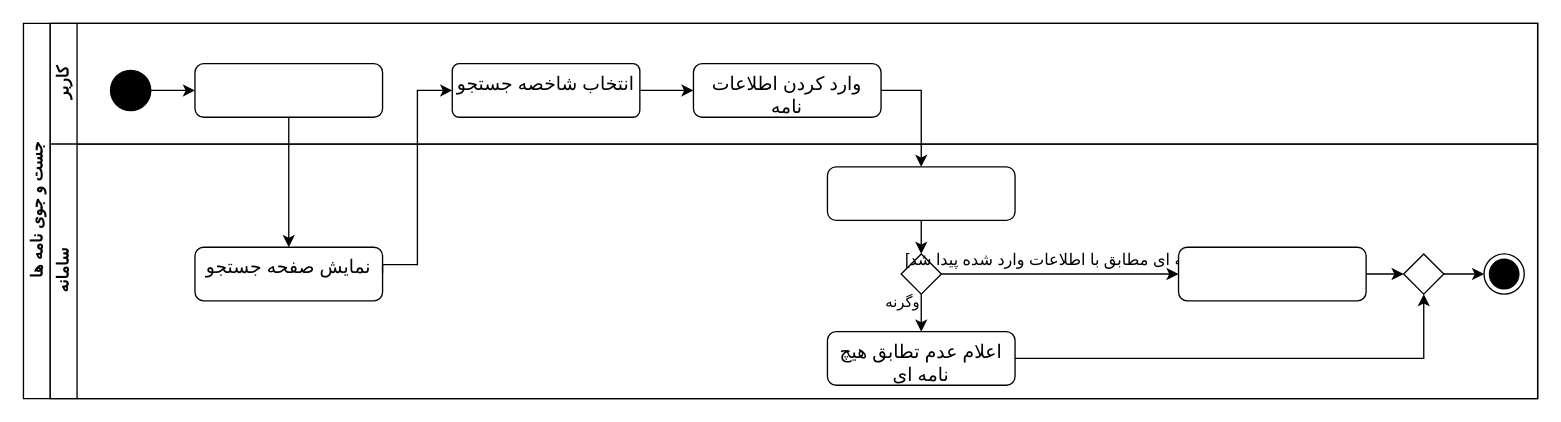
Image size: 1561x422. Some labels were removed from this diagram. Here are the shapes that lost their labels. From the top down, the centre of each, then its label:
At point (288, 89): "درخواست جستجوی نامه".
At point (920, 192): "جستجوی نامه‌ها".
At point (1271, 273): "نمایش نامه‌های پیدا شده".
